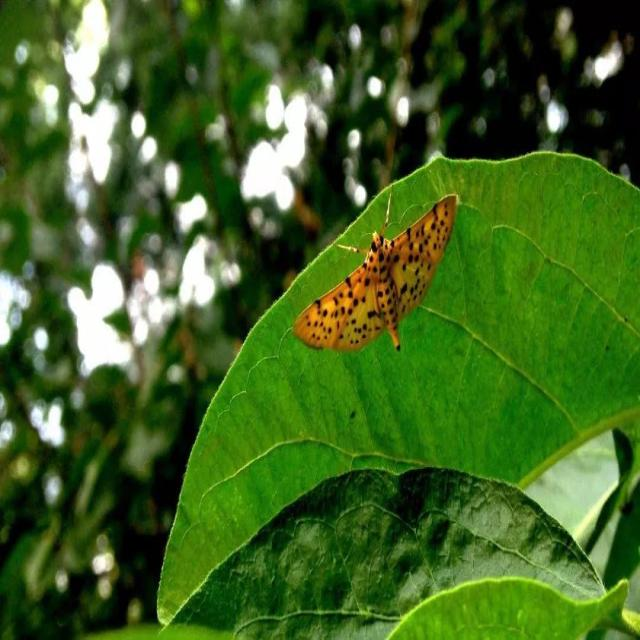peach borer: (290, 196, 461, 365)
